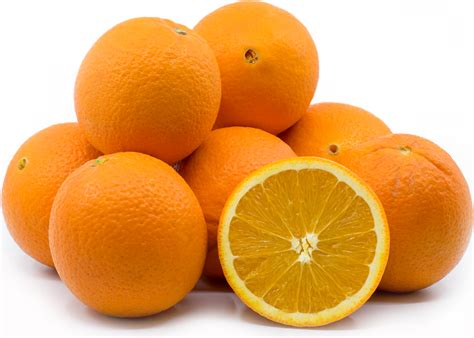orange: (44, 151, 211, 320), (335, 131, 474, 299), (70, 14, 220, 157), (193, 1, 322, 134)
